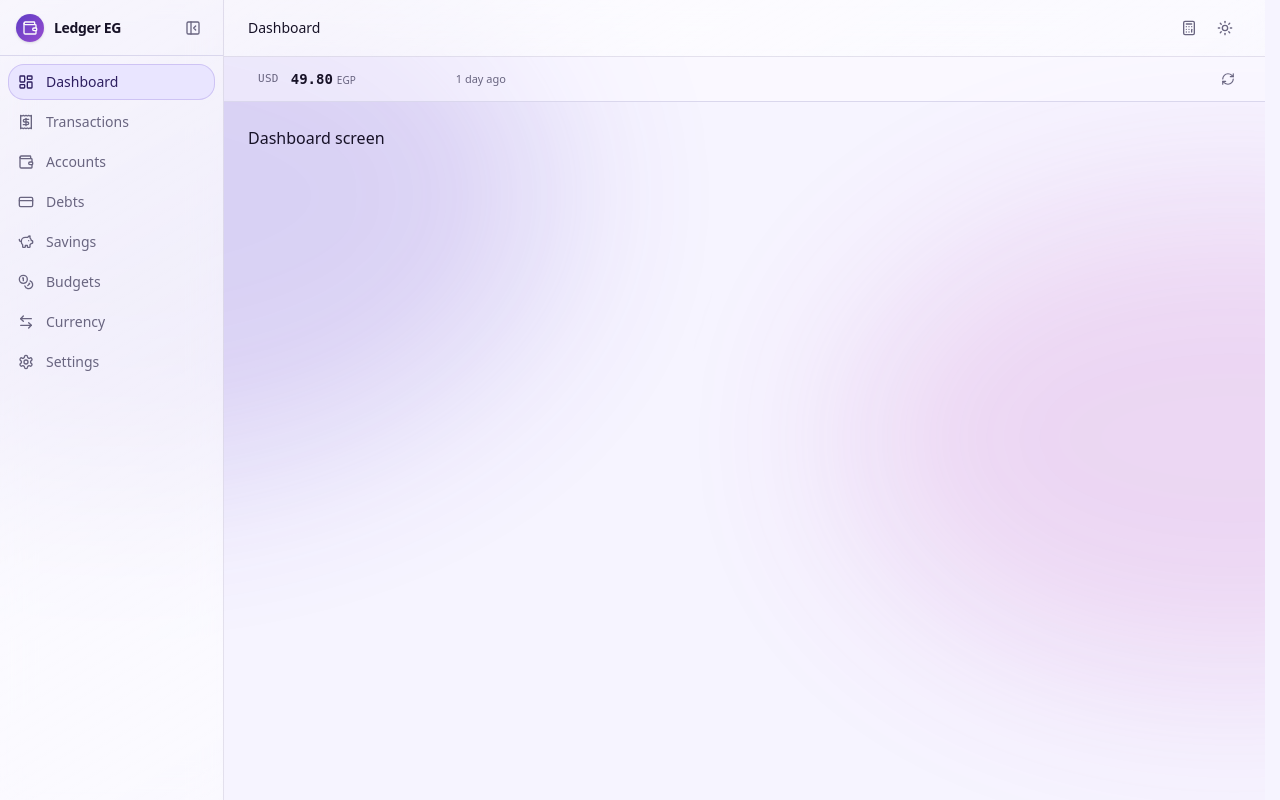
Test: the frame itself › keeps the shell mounted across navigation rather than remounting it
Click the link "Transactions": (73, 122) x1=18 y1=112 x2=129 y2=131
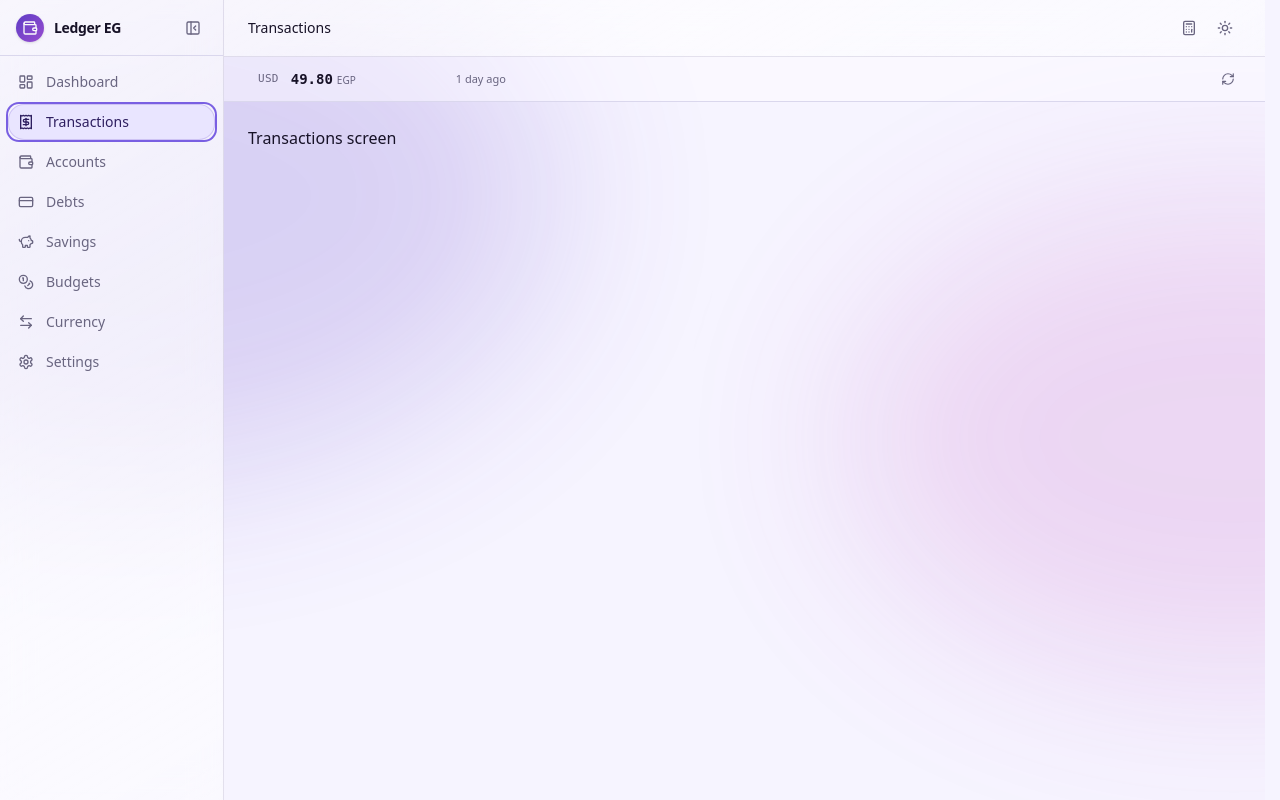
Now the text "Transactions screen" is shown, box x1=248 y1=127 x2=396 y2=149
